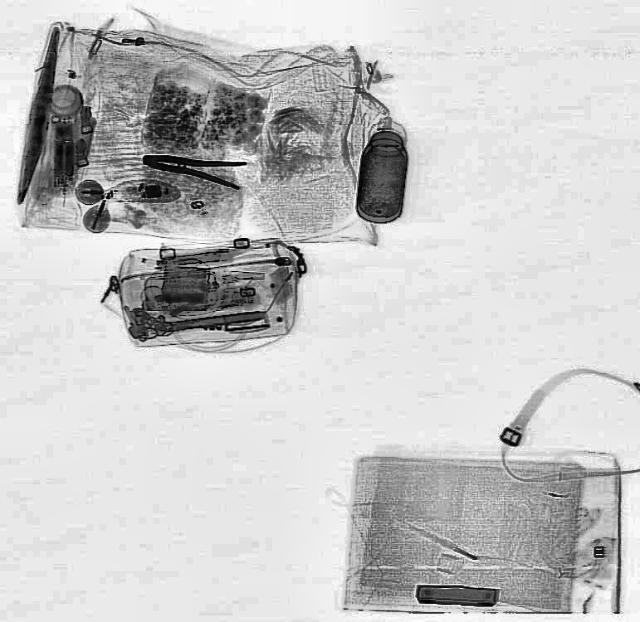Pliers: (138, 146, 245, 190)
